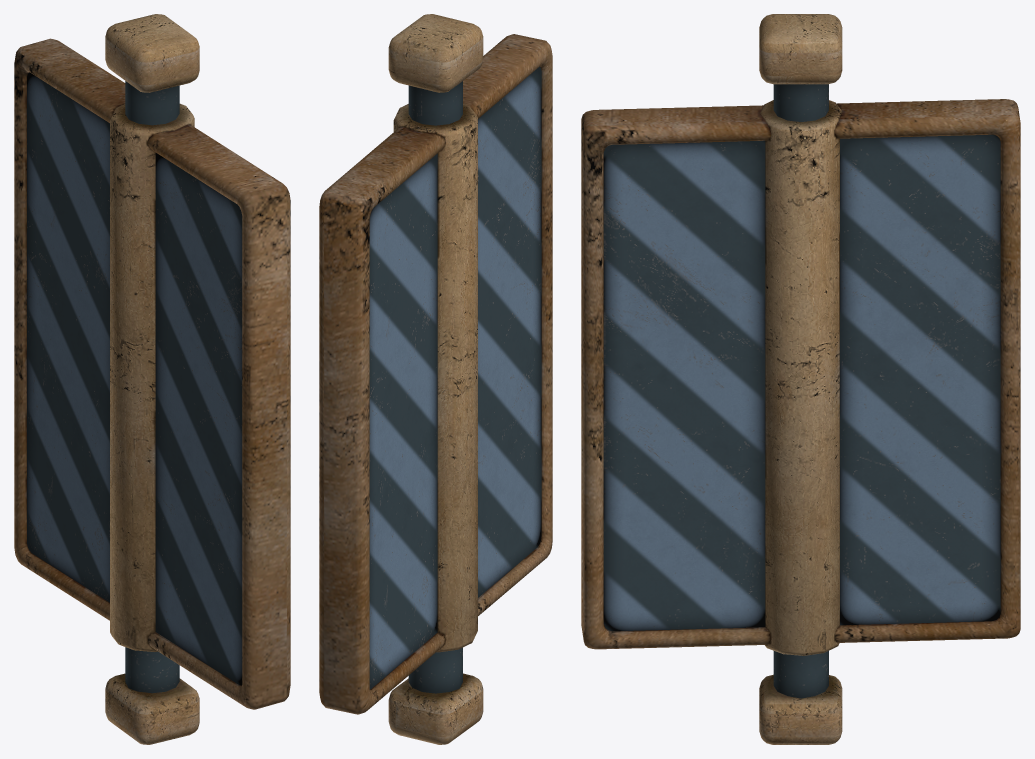
File: Obstacle-14.fbx
The picture shows the model from 3 angles, left to right: view 1: azimuth 30°, elevation 25°; view 2: azimuth 150°, elevation 25°; view 3: azimuth 270°, elevation 25°; orthographic projection.
Visible parts, largest first — view 1: Obstacle-14, Obstacle-14-Holder; view 2: Obstacle-14, Obstacle-14-Holder; view 3: Obstacle-14, Obstacle-14-Holder.
Part boxes in pixels (x1,y1,x2,y2): Obstacle-14: (14,38,290,709); Obstacle-14-Holder: (105,14,199,744); Obstacle-14: (319,34,552,714); Obstacle-14-Holder: (388,14,483,744); Obstacle-14: (581,99,1020,655); Obstacle-14-Holder: (759,14,842,744).
Bounding box in the file's own units: 0.3107 × 2.84 × 1.59.
